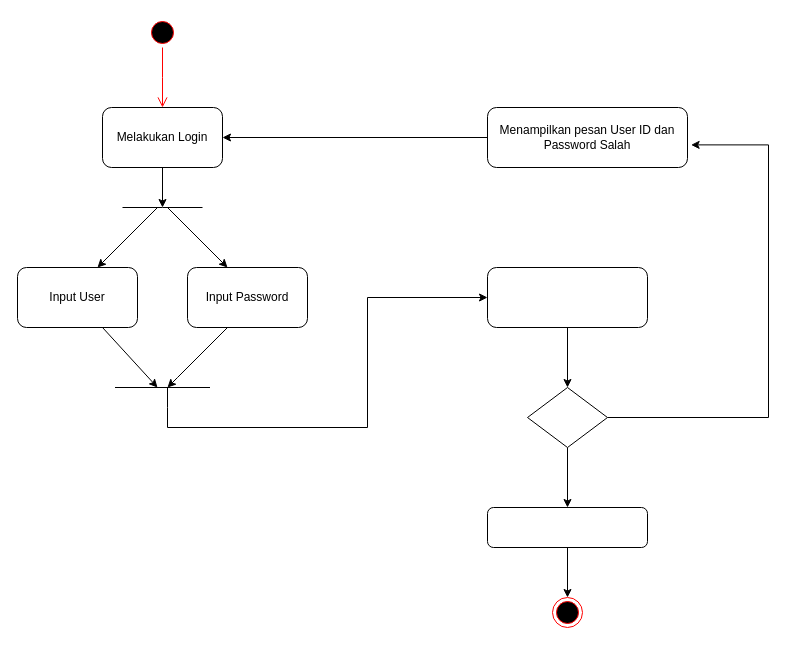
Image size: 794x645. Some labels were removed from this diagram. The box of each missing label's shape, as (x1, y1, x2, y2) in pixels:
Cek User ID dan Password: (486, 266, 648, 328)
Log Out: (486, 506, 648, 548)
